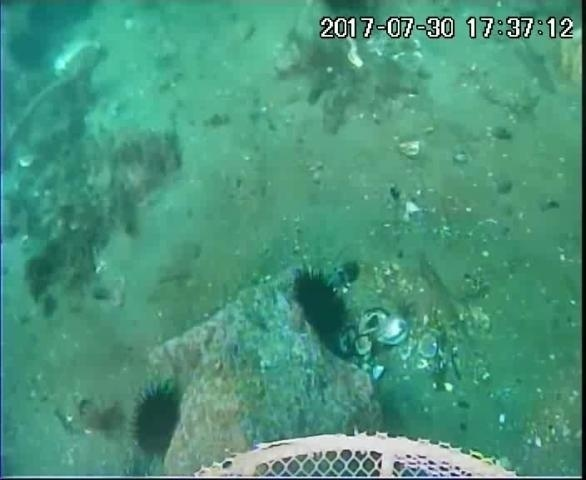echinus: (289, 267, 352, 344), (127, 380, 186, 458), (4, 28, 52, 74)
